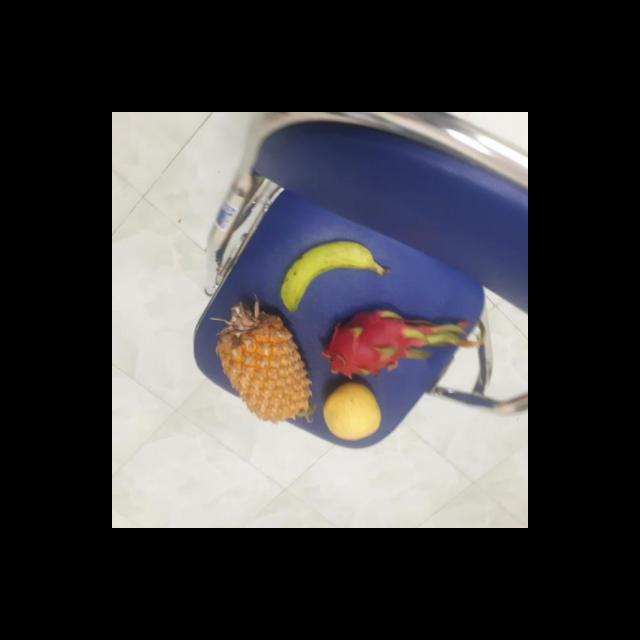banana: (285, 241, 386, 314)
pear: (323, 381, 385, 440)
pineapple: (217, 294, 316, 424)
pitaya: (326, 306, 418, 379)
